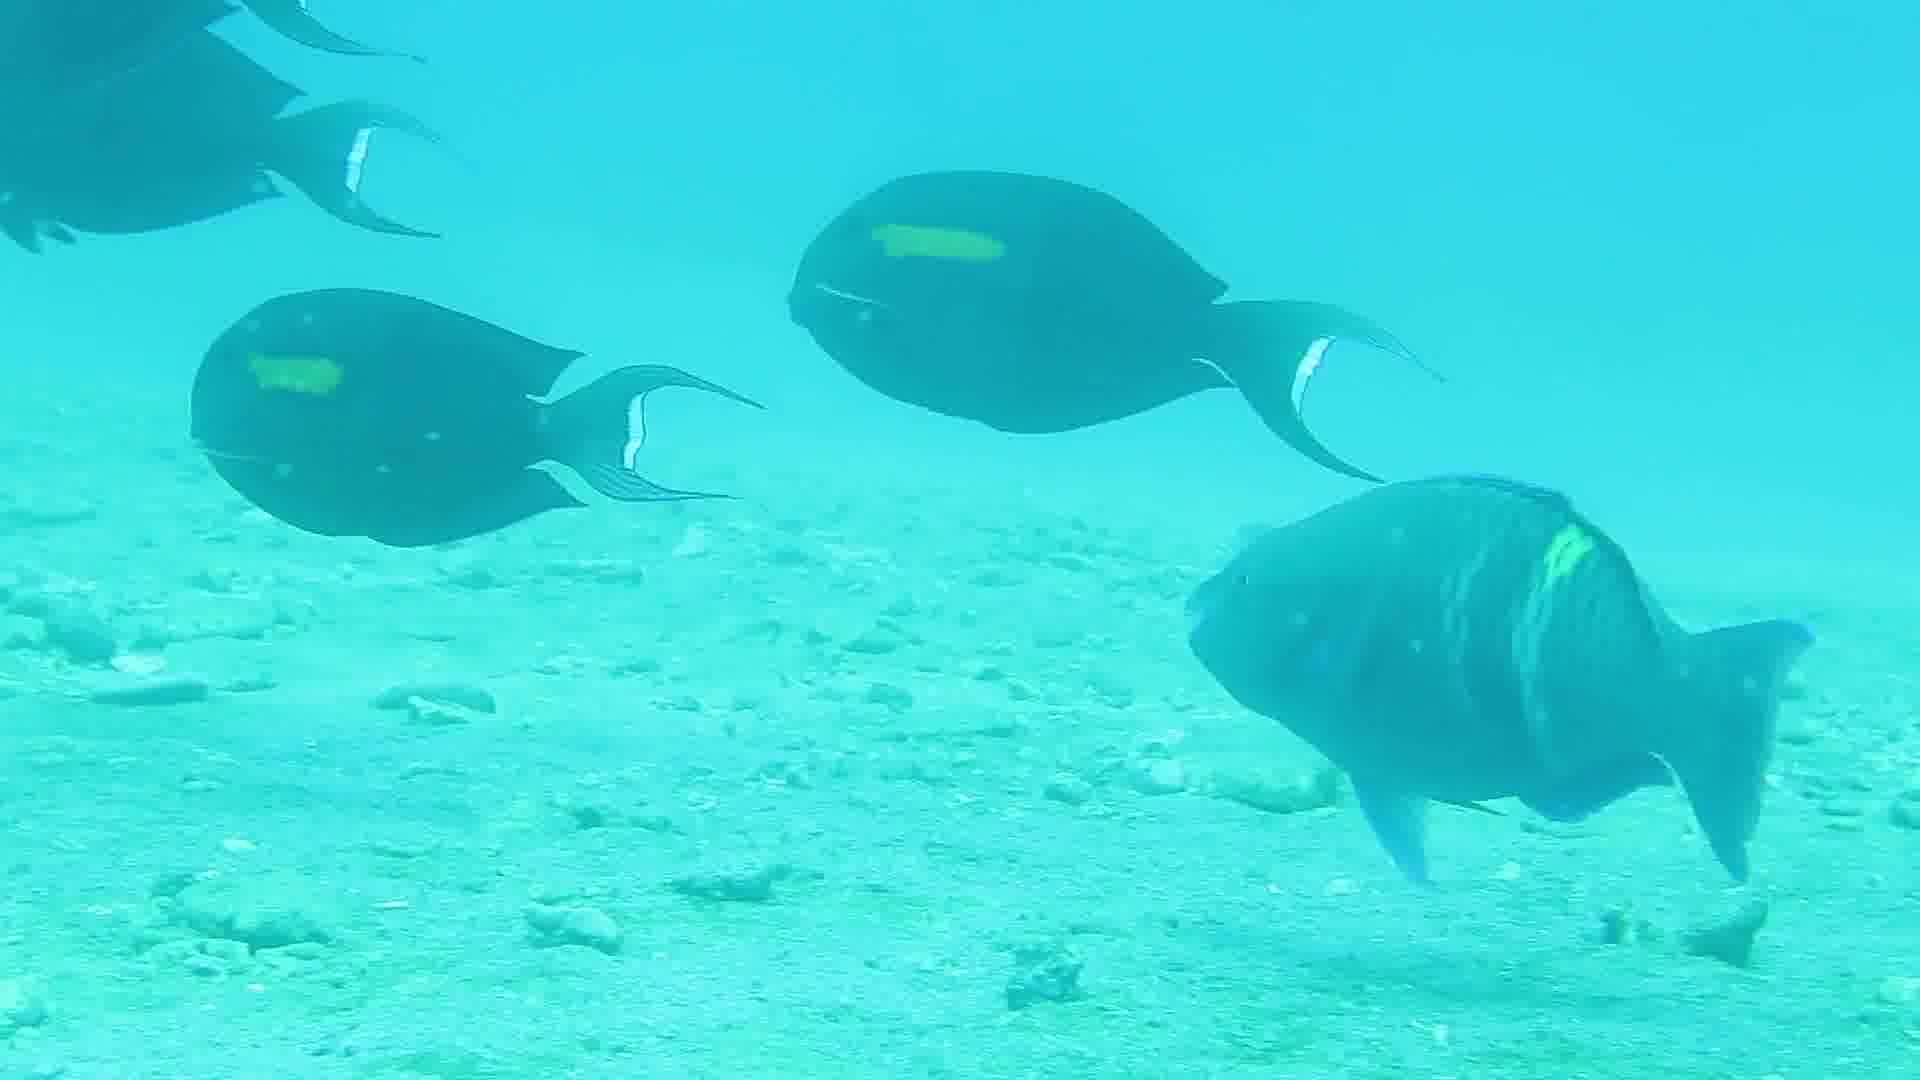Acanthurus olivaceus: (1207, 471, 1797, 930), (153, 256, 777, 676), (749, 61, 1373, 480), (4, 3, 451, 248)
